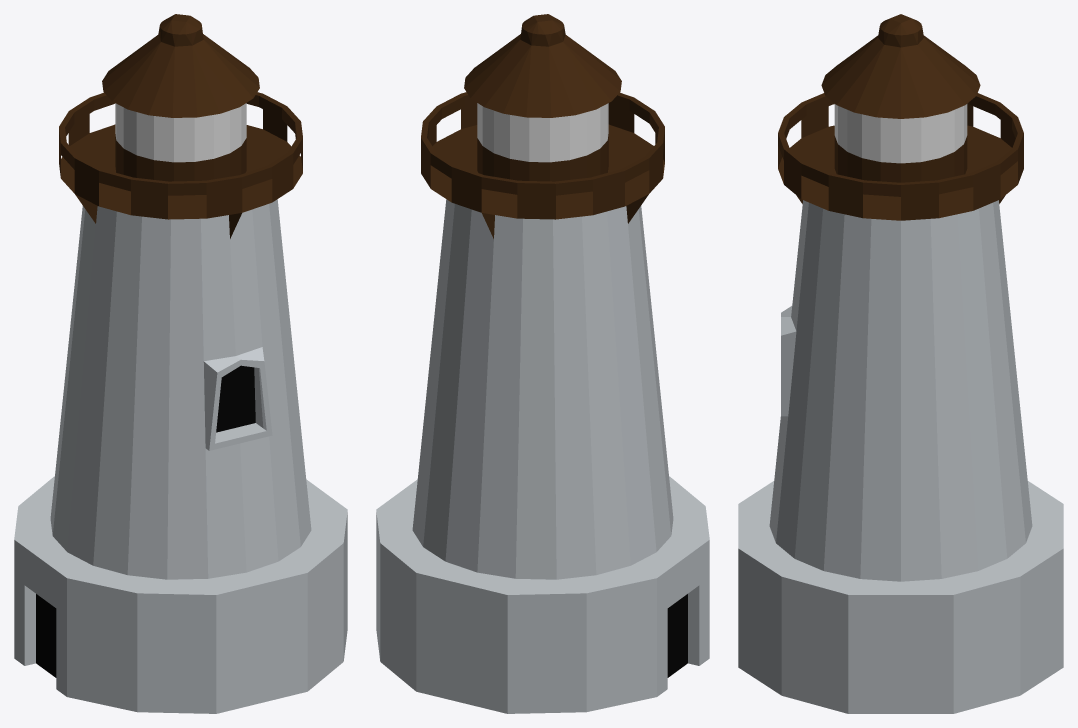
Rendered from lighthouse_textured_fixed.fbx.
The picture shows the model from 3 angles, left to right: view 1: azimuth 30°, elevation 25°; view 2: azimuth 150°, elevation 25°; view 3: azimuth 270°, elevation 25°; orthographic projection.
Parts seen in each view (by area): view 1: outside, inside; view 2: outside, inside; view 3: outside, inside.
Part boxes in pixels (bbox=[...]): outside: bbox=[14, 14, 347, 713]; inside: bbox=[59, 93, 302, 244]; outside: bbox=[376, 14, 709, 713]; inside: bbox=[421, 92, 664, 244]; outside: bbox=[738, 14, 1063, 713]; inside: bbox=[778, 93, 1023, 245].
Bounding box in the file's own units: 247 × 526 × 247.
